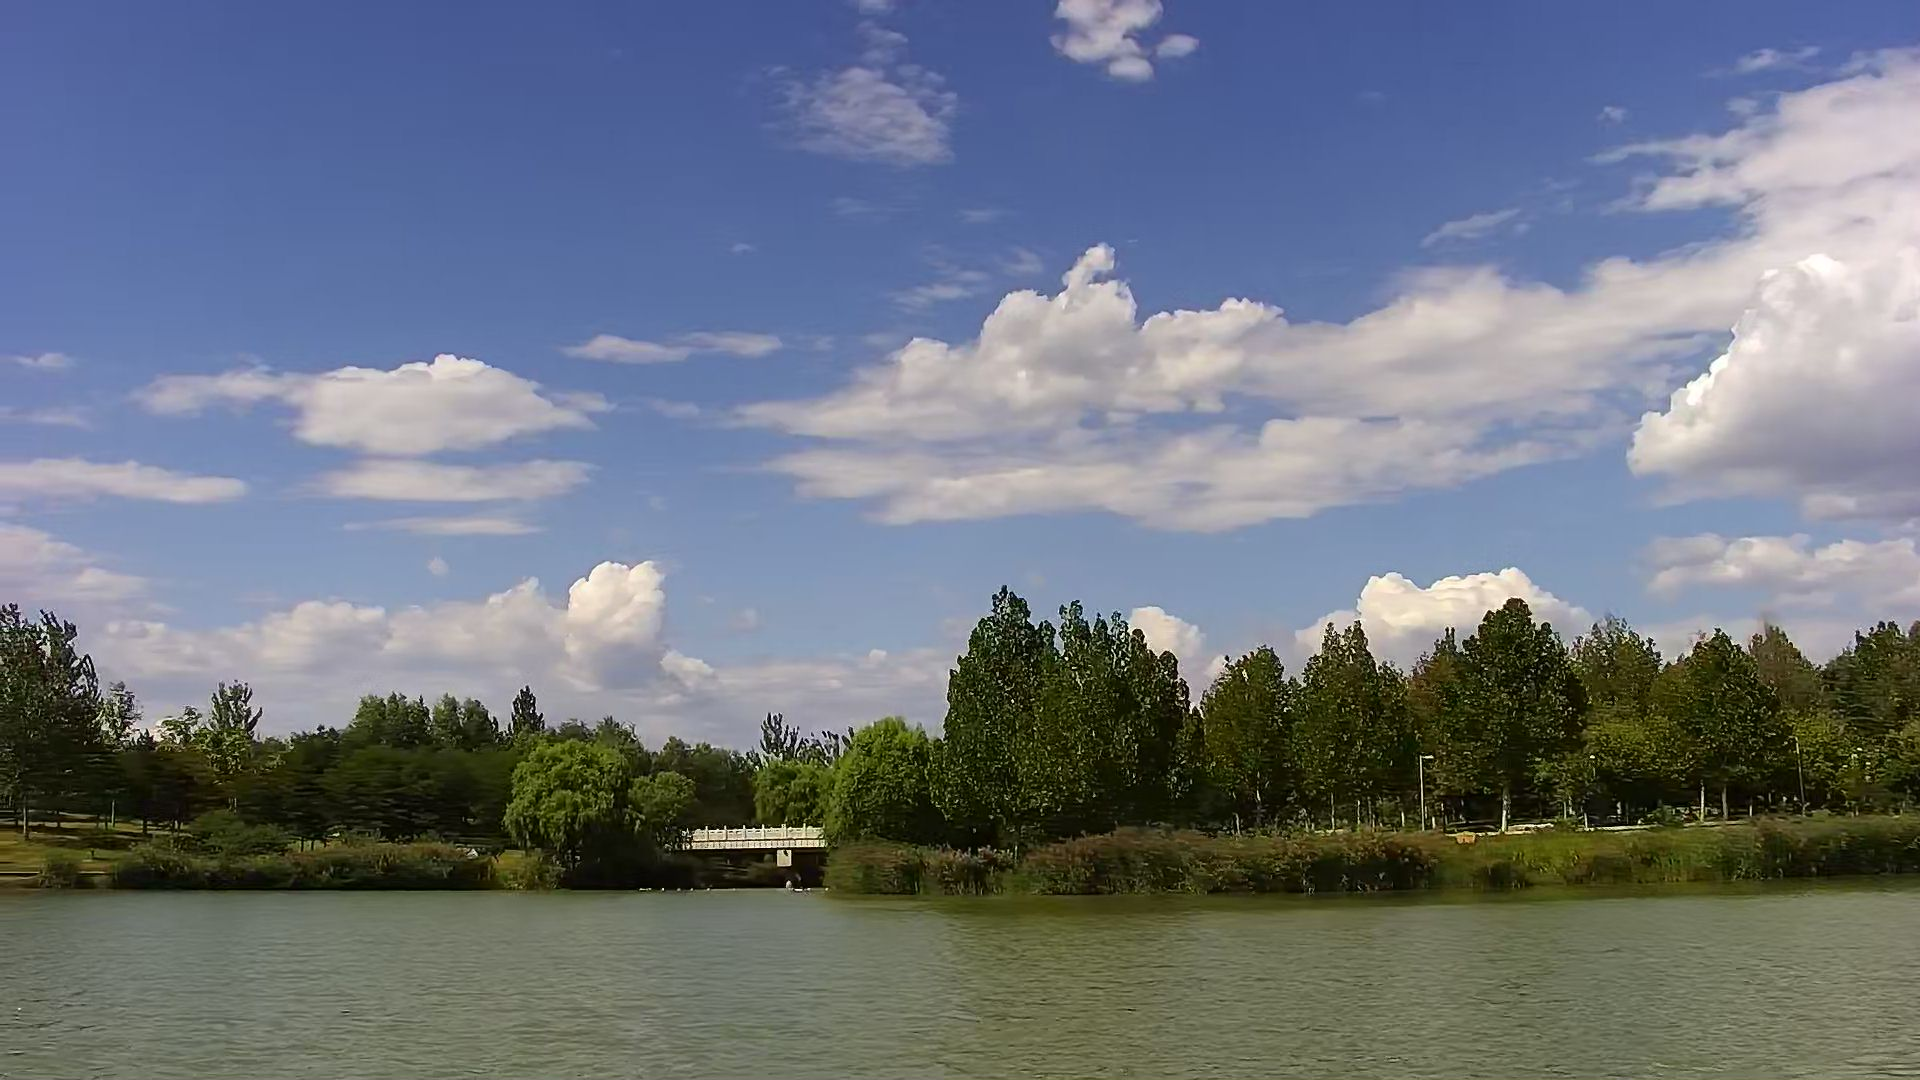bridge: (686, 823, 825, 889)
